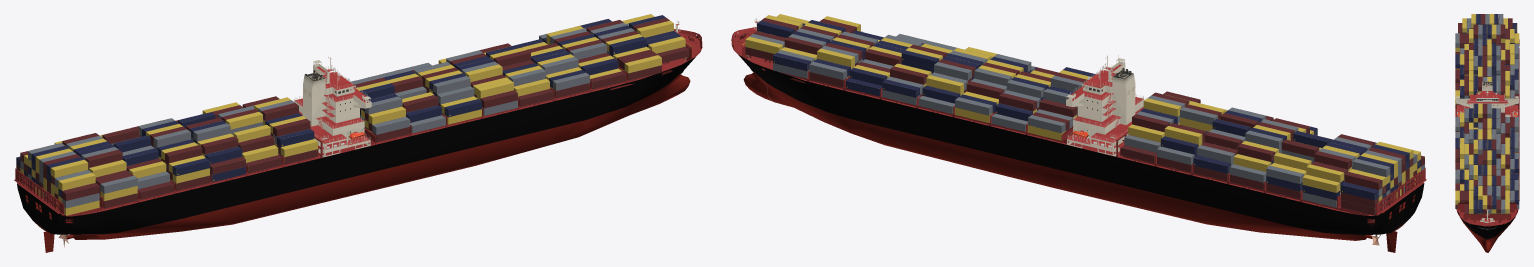
The model's file is barco.glb.
3 views of the same model, side by side, from view 1: azimuth 30°, elevation 25°; view 2: azimuth 150°, elevation 25°; view 3: azimuth 270°, elevation 25° (orthographic). The views are drawn at different scales.
Parts seen in each view (by area): view 1: Containers_Containers_0, Ship_Hull_0, Ship_Bridge_0; view 2: Containers_Containers_0, Ship_Hull_0, Ship_Bridge_0; view 3: Containers_Containers_0, Ship_Hull_0, Ship_Bridge_0.
Boxes of the visible parts, box(x1,y1,x2,y2) form: Containers_Containers_0: box(16, 14, 689, 215); Ship_Hull_0: box(14, 29, 702, 252); Ship_Bridge_0: box(293, 20, 680, 157); Containers_Containers_0: box(745, 14, 1424, 215); Ship_Hull_0: box(731, 27, 1426, 252); Ship_Bridge_0: box(753, 18, 1144, 156); Containers_Containers_0: box(1455, 14, 1519, 218); Ship_Hull_0: box(1455, 39, 1519, 252); Ship_Bridge_0: box(1456, 79, 1518, 223).
Size of the model in its own units: 91.25 by 16.9 by 12.87.
Materials: 3 (3 with a texture image).
